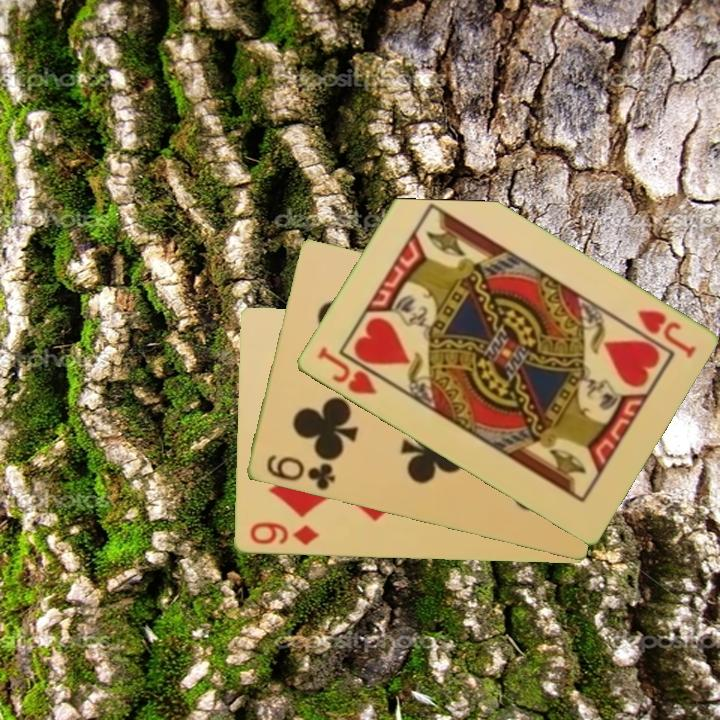6c: (262, 451, 338, 494)
9d: (246, 519, 322, 549)
Jh: (313, 343, 391, 398), (632, 306, 698, 361)
